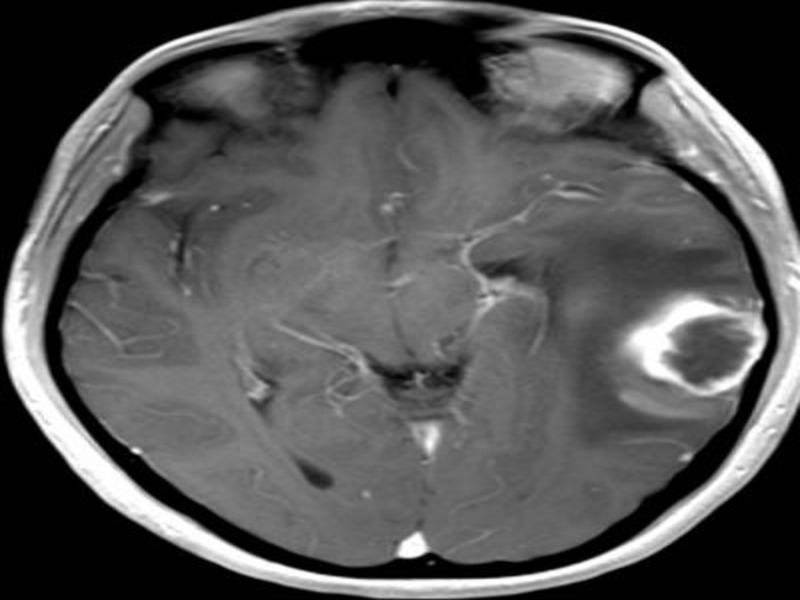tumor: (620, 285, 776, 403)
